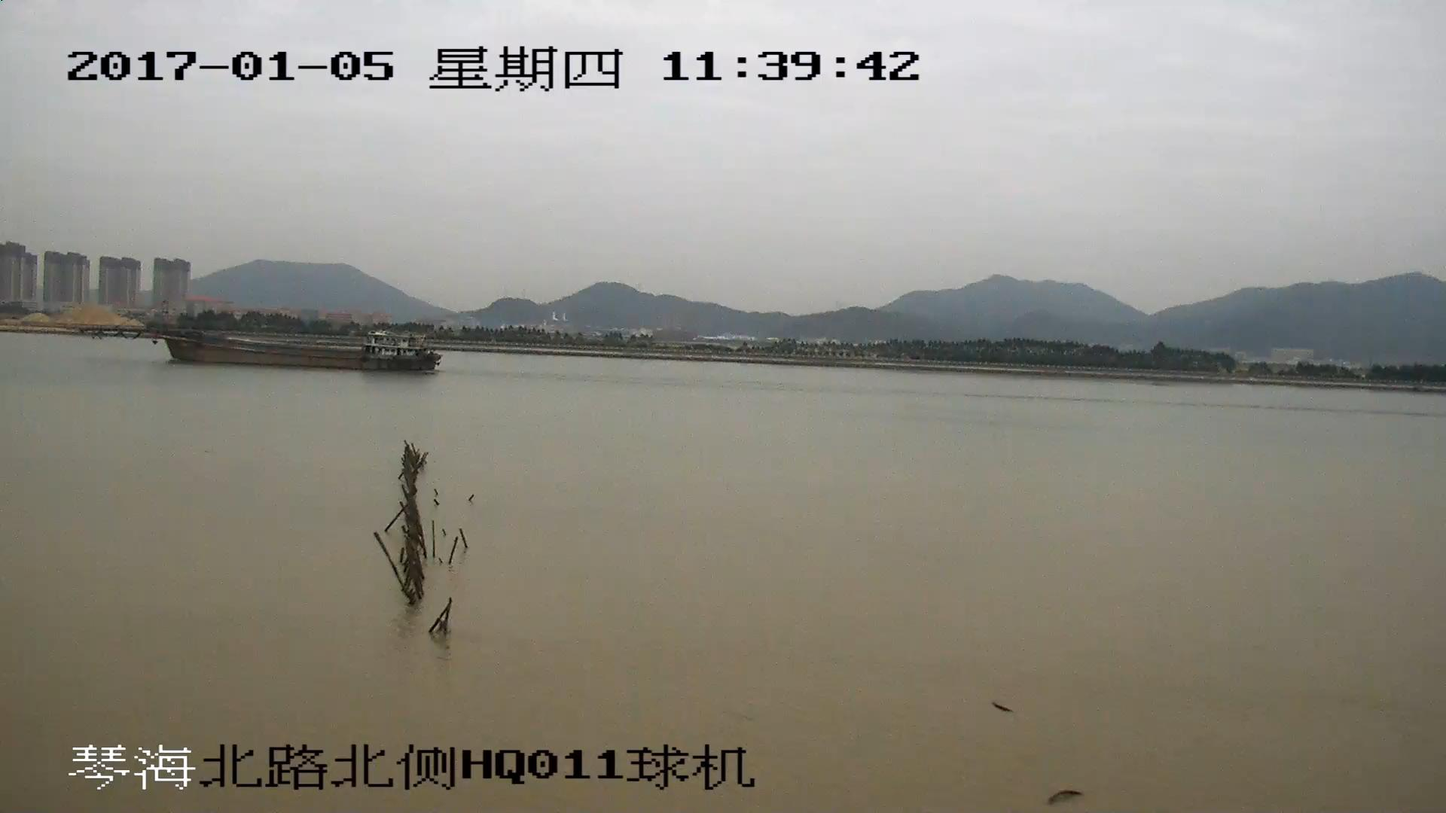bulk cargo carrier: (105, 306, 442, 373)
